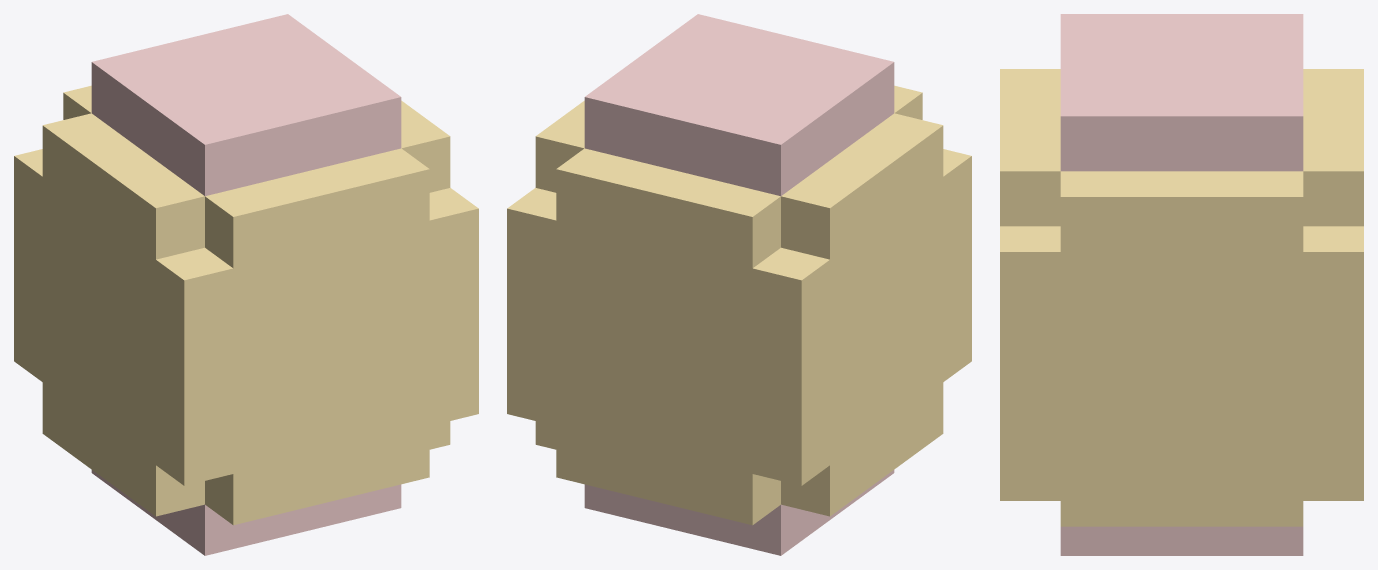
Rendered from Lantern.obj.
3 renders of one model, left to right at view 1: azimuth 30°, elevation 25°; view 2: azimuth 150°, elevation 25°; view 3: azimuth 270°, elevation 25°, orthographic. The views are drawn at different scales.
Bounding box in the file's own units: 0.6 × 0.8 × 0.6.
1 material, 1 textured.
